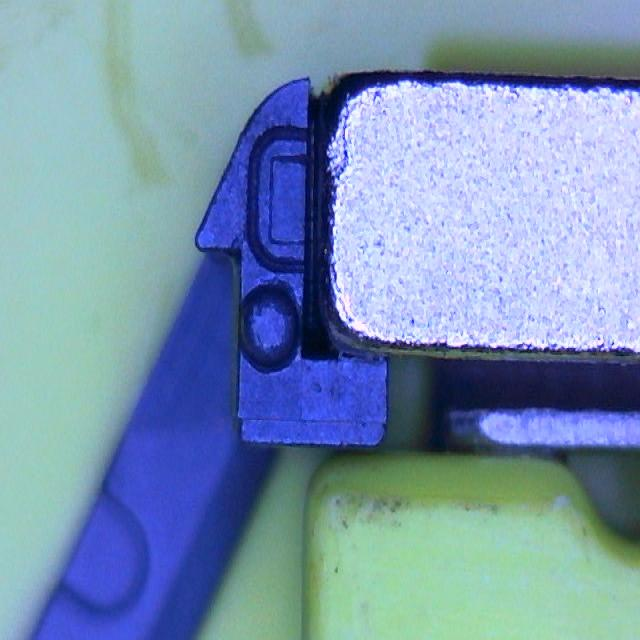lacking: (246, 122, 316, 276)
